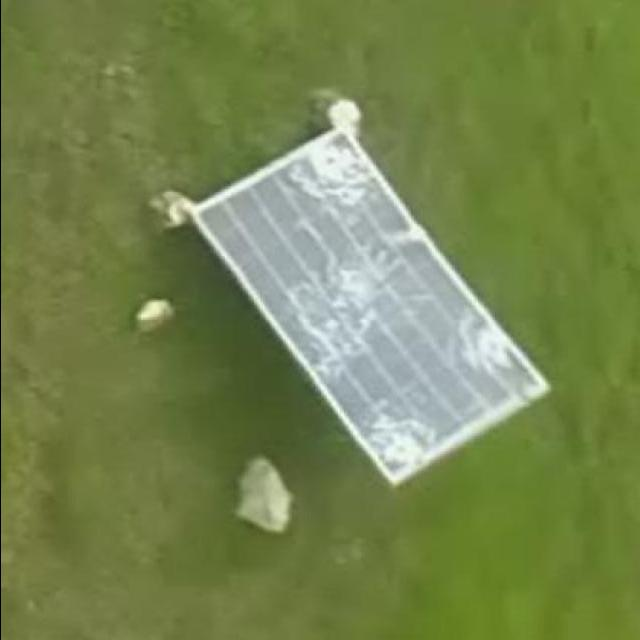cracked: (198, 125, 552, 494)
